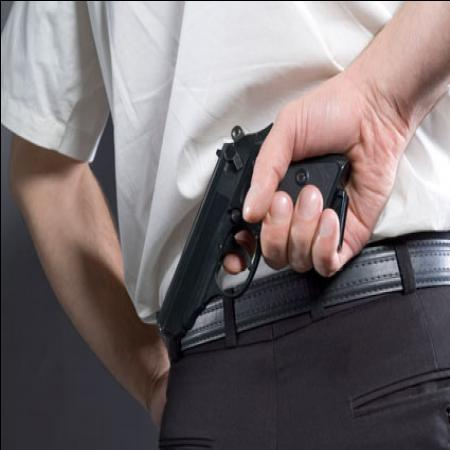Pistol: (150, 115, 352, 342)
